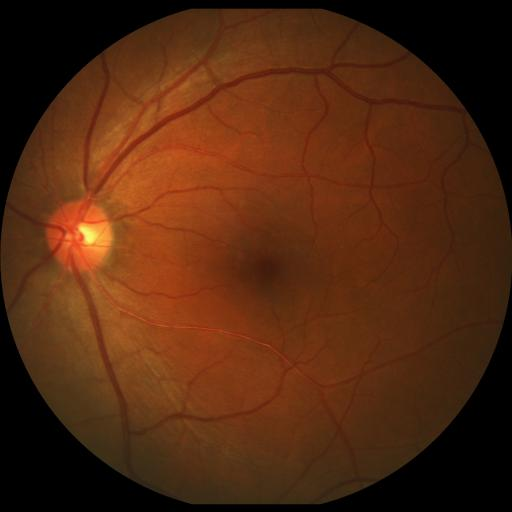Optic Cup: (73, 225, 98, 246)
Optic Disc: (46, 201, 113, 272)
